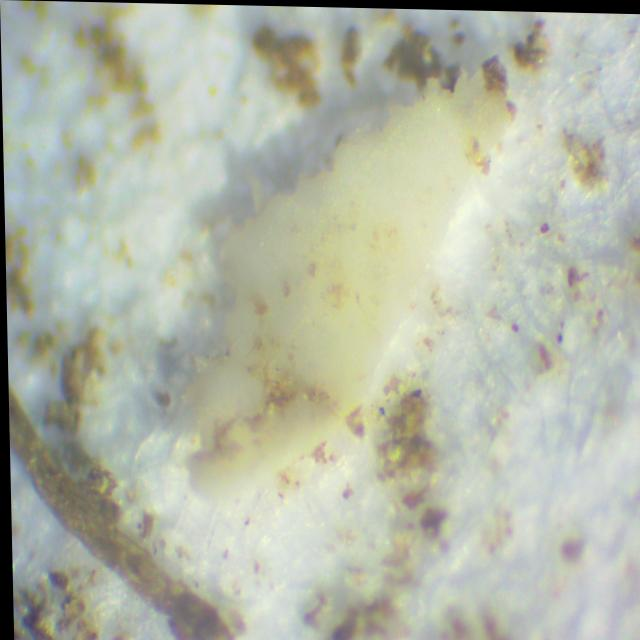microplastic: (188, 76, 509, 495)
